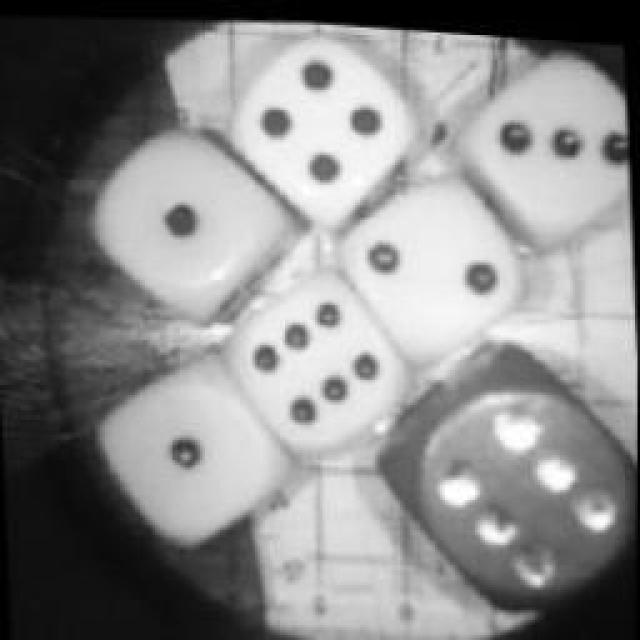dice_1: (80, 104, 312, 336), (85, 325, 310, 563)
dice_2: (334, 154, 548, 371)
dice_3: (455, 26, 635, 256)
dice_4: (218, 12, 432, 238)
dice_6: (368, 316, 638, 622), (220, 246, 422, 472)
